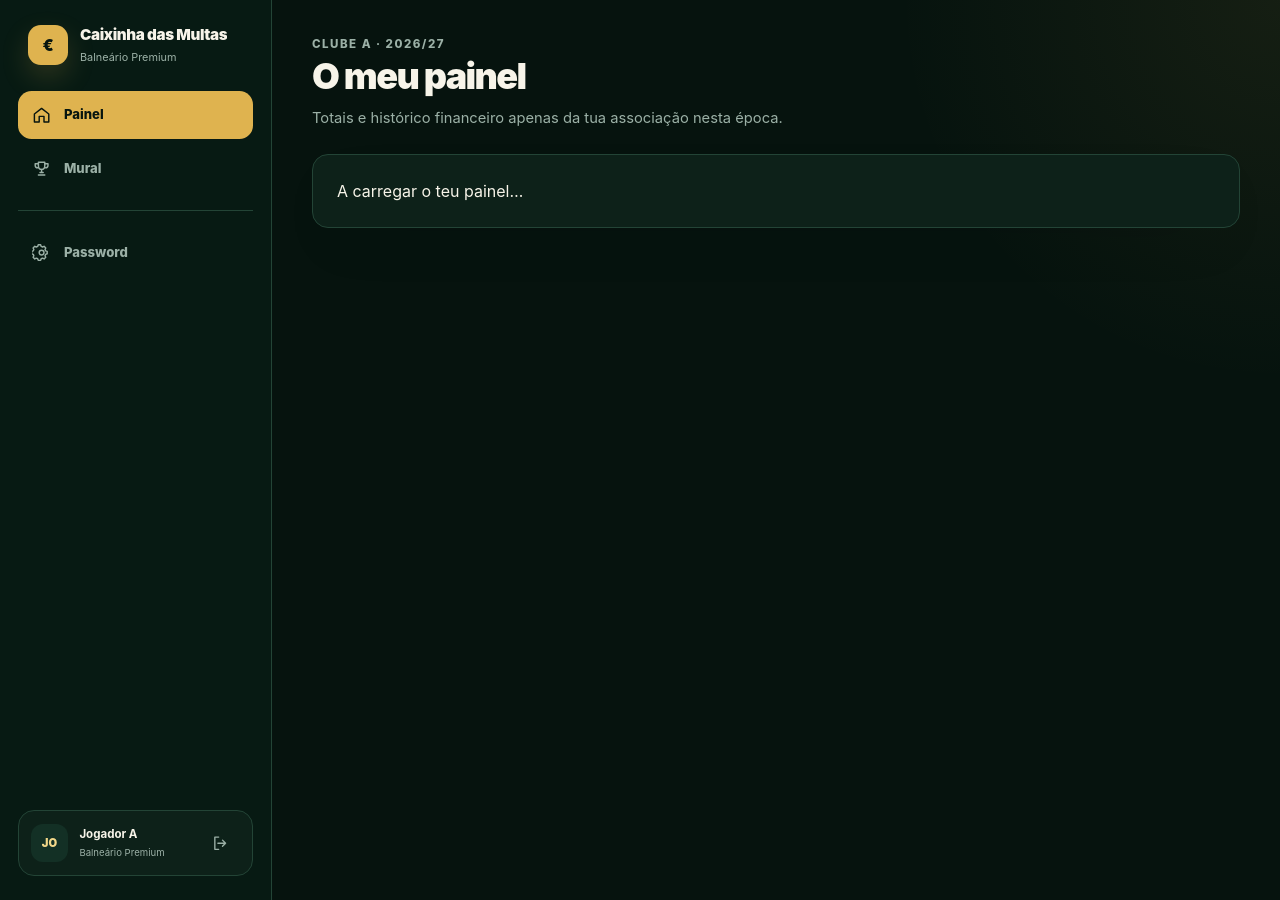
Test: autenticação e rotas da aplicação › termina a sessão através do logout
This screenshot has width=1280, height=900.
Click the button named "Sair" at (220, 843), box [200, 823, 240, 863]
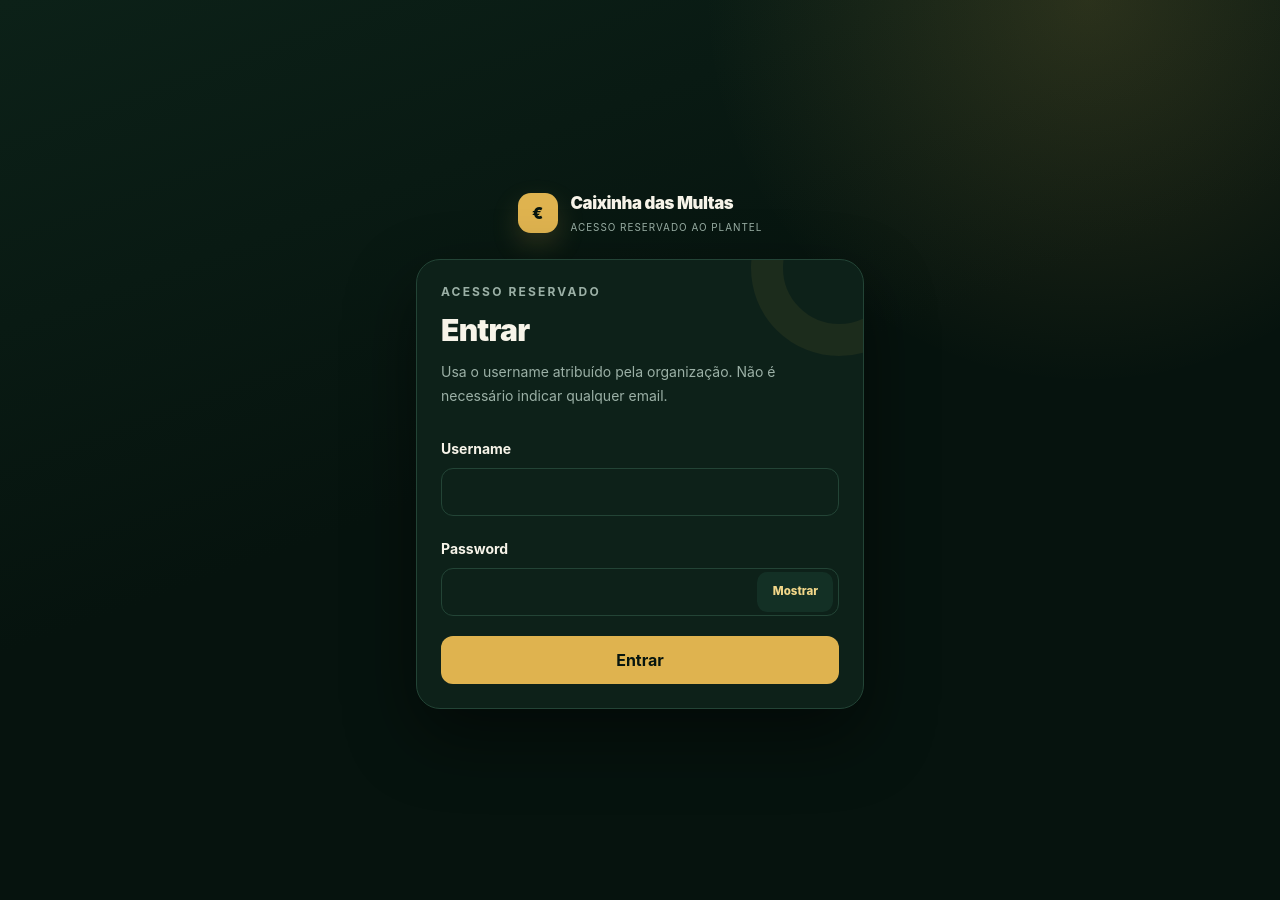
Result: the heading "Entrar" is shown at [441, 312, 530, 348]
